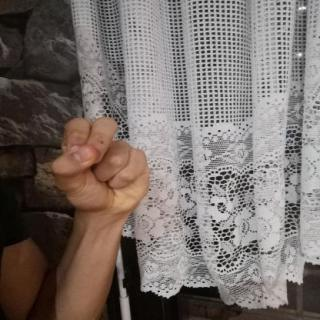QAAF: (43, 112, 156, 225)
